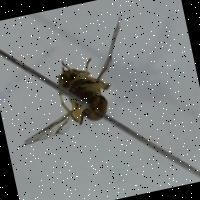Oriental-fruit-fly: (7, 8, 152, 148)
